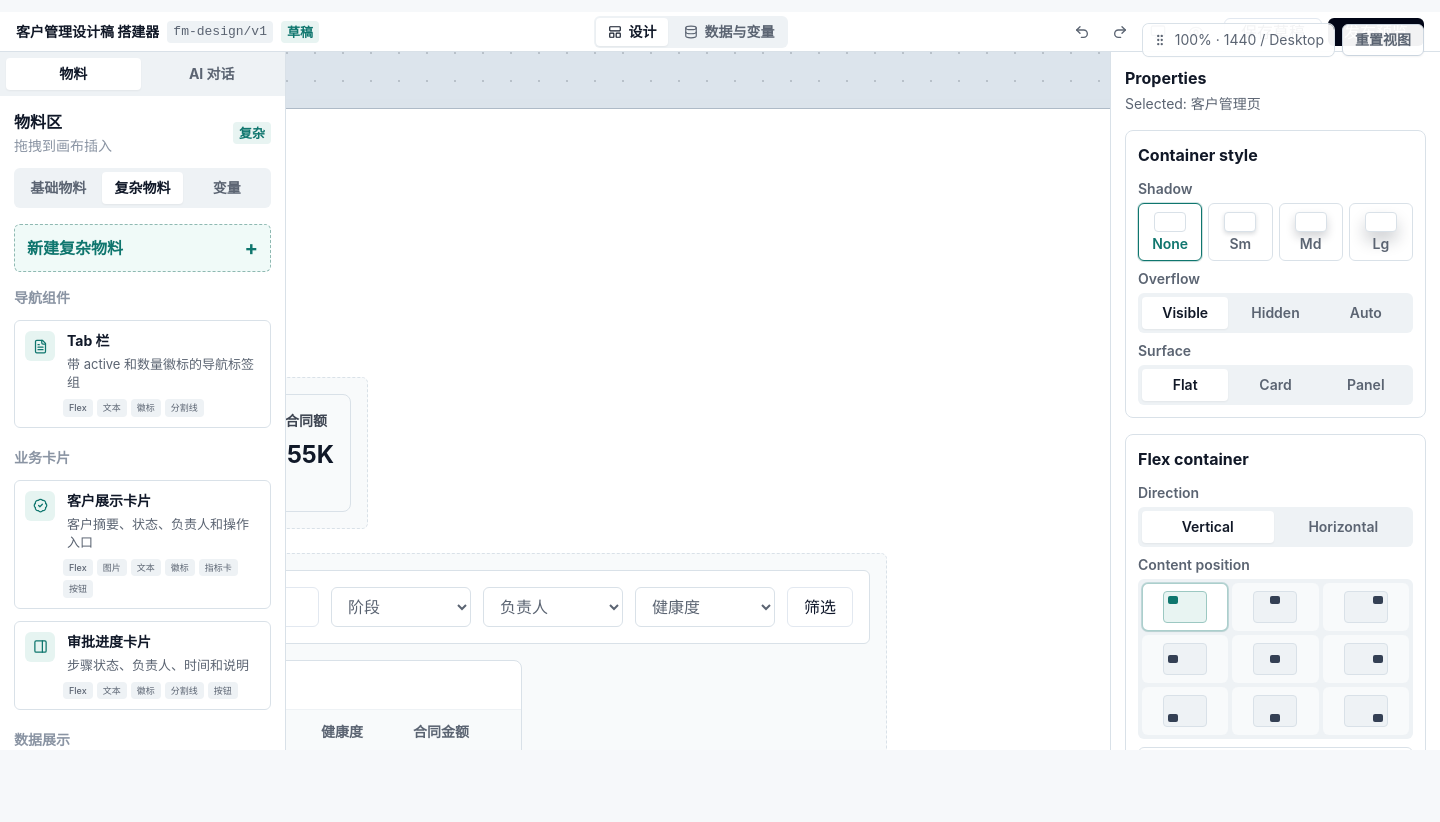
it: LowCodePage design builder › shows complex materials by default and keeps basic materials one tab away
This screenshot has width=1440, height=822.
Expected: the button "Tab 栏 带 active 和数量徽标的导航标签组 Flex 文本 徽标 分割线" is shown, [14, 320, 271, 428]
Step 1. Click the button "基础物料" → (58,188), box [18, 172, 98, 204]
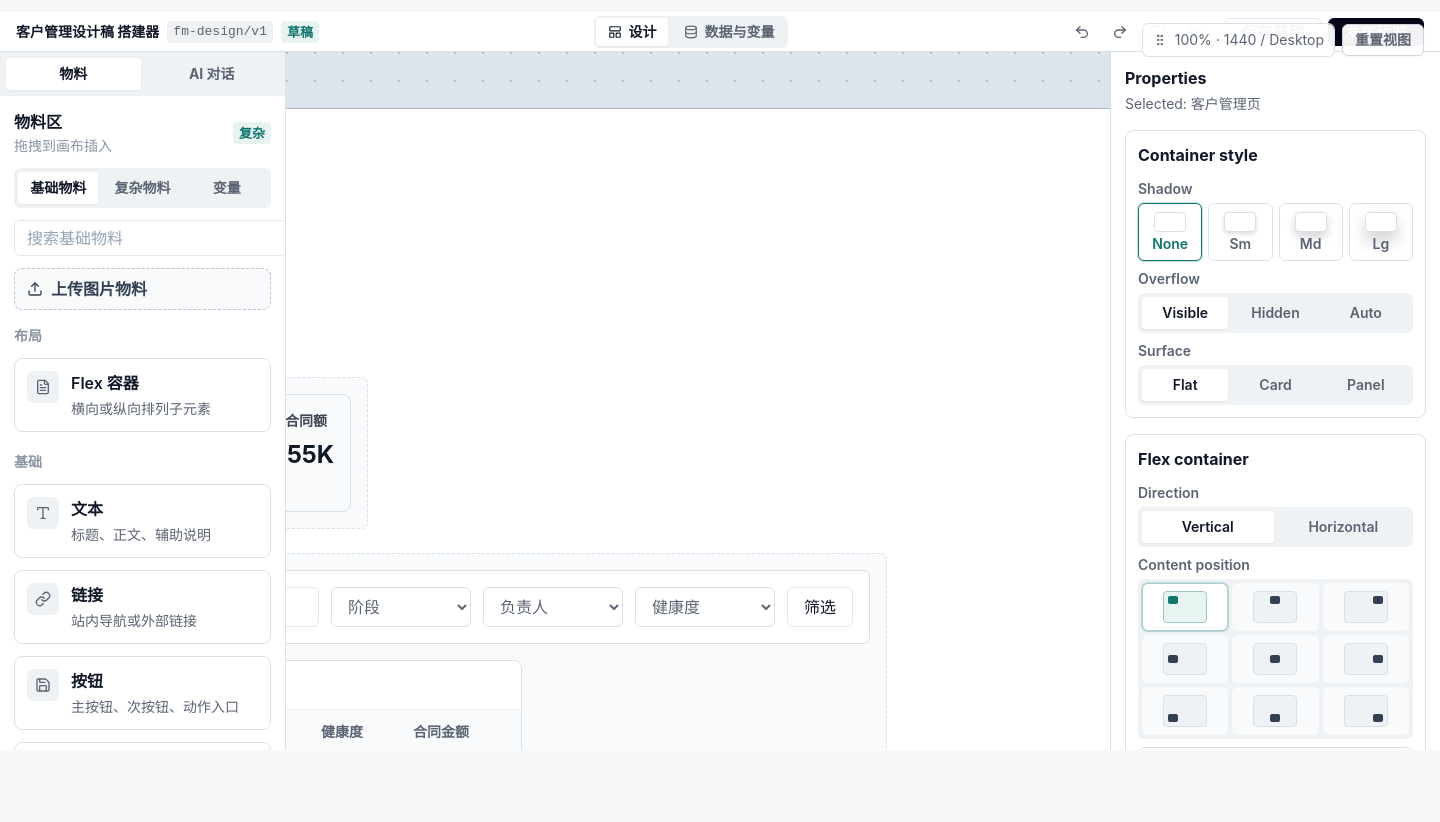
Now the button "文本 标题、正文、辅助说明" is shown, box [14, 484, 271, 558]
